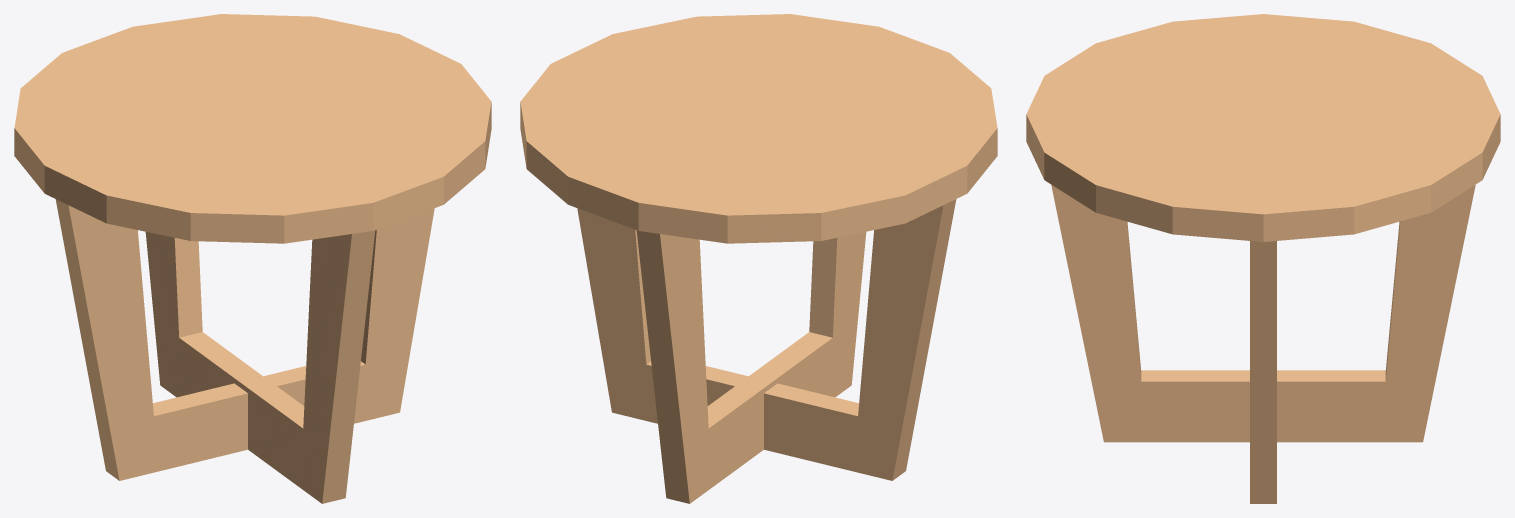
The model's file is Prop_Table_03.fbx.
3 views of the same model, side by side, from view 1: azimuth 30°, elevation 25°; view 2: azimuth 150°, elevation 25°; view 3: azimuth 270°, elevation 25° (orthographic).
Parts seen in each view (by area): view 1: Prop_Table_03; view 2: Prop_Table_03; view 3: Prop_Table_03.
Part boxes in pixels (<box>): Prop_Table_03: <box>14,14,491,503</box>; Prop_Table_03: <box>520,14,997,503</box>; Prop_Table_03: <box>1026,14,1500,503</box>.
Bounding box in the file's own units: 100 × 75 × 100.
